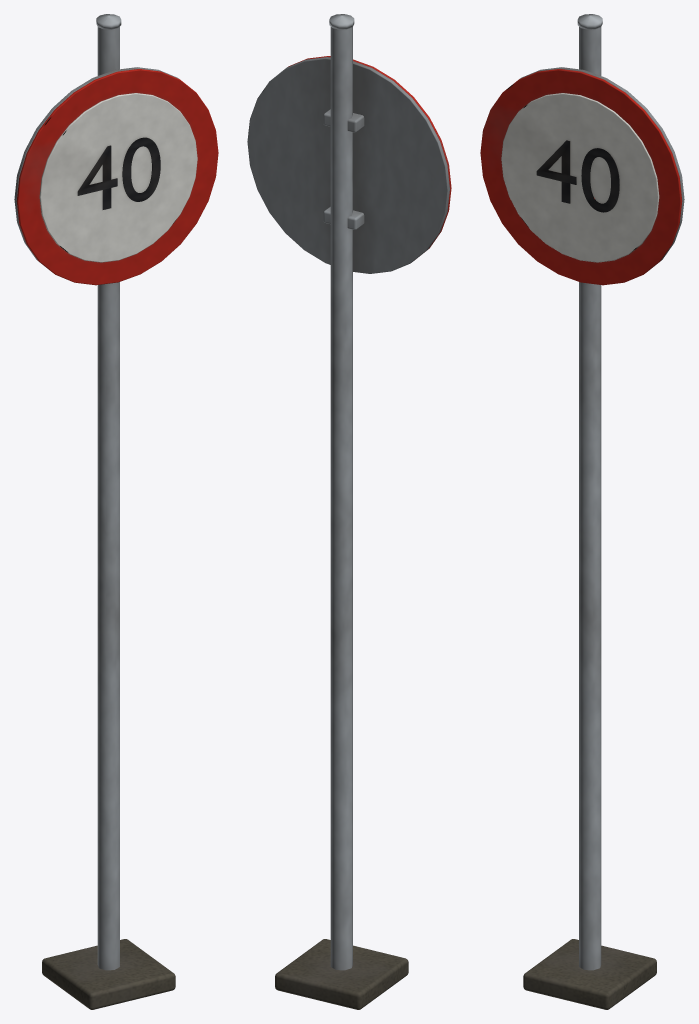
Rendered from znak_40.glb.
The picture shows the model from 3 angles, left to right: view 1: azimuth 30°, elevation 25°; view 2: azimuth 150°, elevation 25°; view 3: azimuth 330°, elevation 25°; orthographic projection.
Parts seen in each view (by area): view 1: Tarcza, Slupek; view 2: Slupek, Tarcza; view 3: Tarcza, Slupek.
Boxes of the visible parts, x1,y1,x2,y2 form: Tarcza: (16, 69, 218, 285); Slupek: (14, 14, 178, 1009); Slupek: (247, 14, 449, 1009); Tarcza: (288, 56, 451, 252); Tarcza: (480, 69, 682, 285); Slupek: (520, 14, 684, 1009).
Size of the model in its own units: 0.604 by 2.78 by 0.26.
2 materials, 2 textured.
